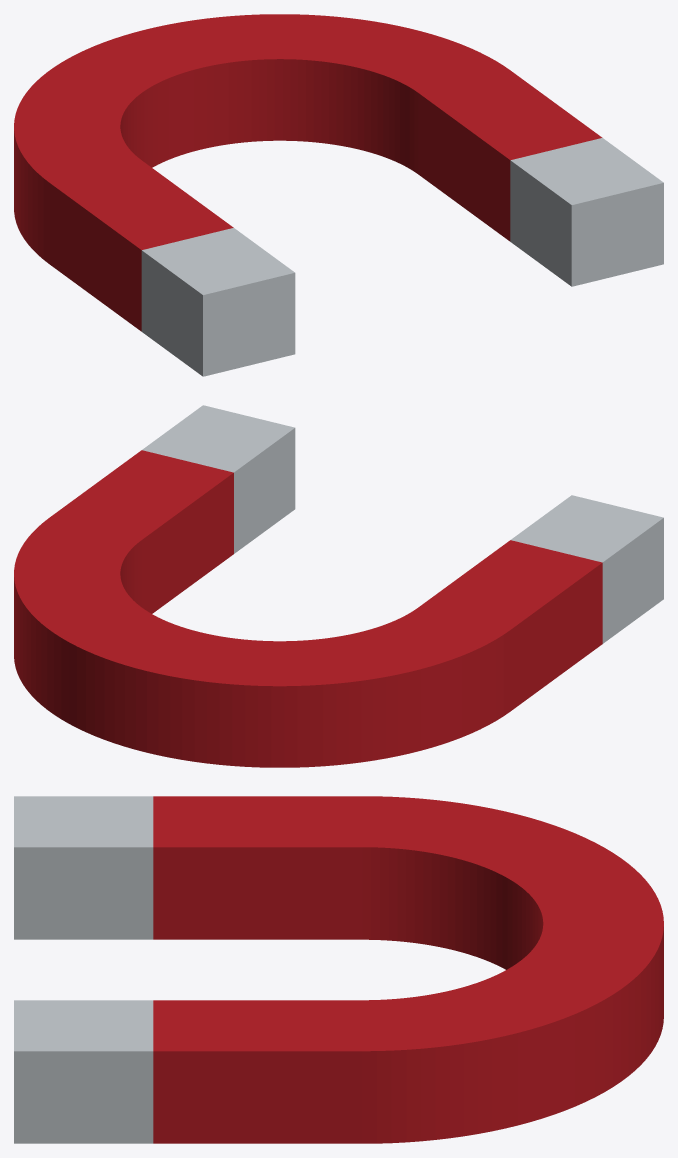
The model's file is NEW_RECOVERY_037_LOD0.glb.
3 views of the same model, one above another, from view 1: azimuth 30°, elevation 25°; view 2: azimuth 150°, elevation 25°; view 3: azimuth 270°, elevation 25° (orthographic). The views are drawn at different scales.
Parts seen in each view (by area): view 1: Horseshoe Magnet; view 2: Horseshoe Magnet; view 3: Horseshoe Magnet.
Part boxes in pixels (x1,y1,x2,y2): Horseshoe Magnet: (14, 14, 663, 376); Horseshoe Magnet: (14, 405, 663, 767); Horseshoe Magnet: (14, 796, 663, 1143).
Bounding box in the file's own units: 2.6 × 0.44 × 2.8.
